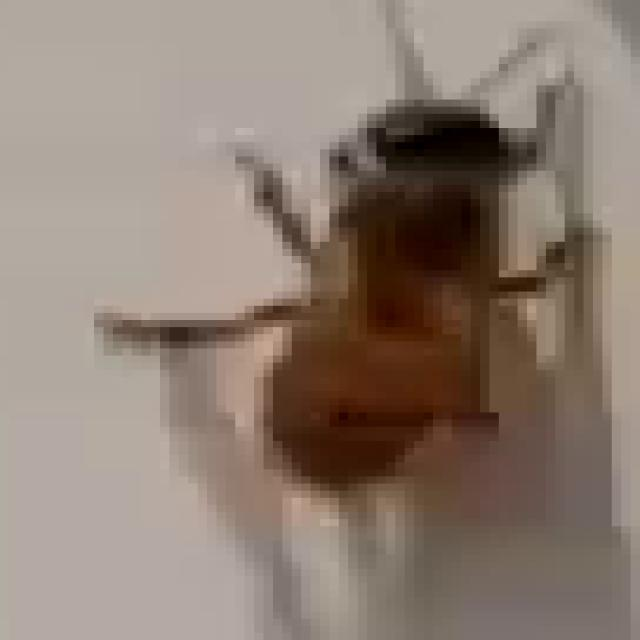honeybee: (240, 88, 537, 477)
